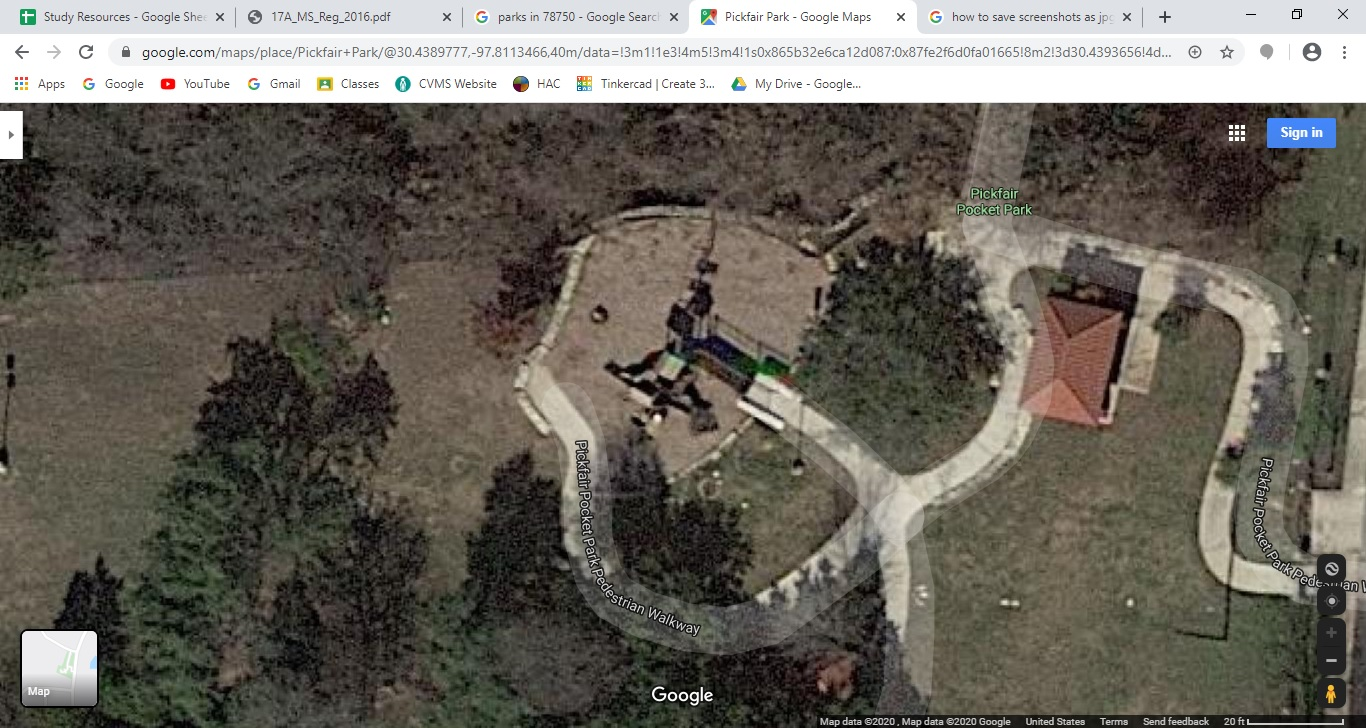playscape: (512, 237, 867, 518)
